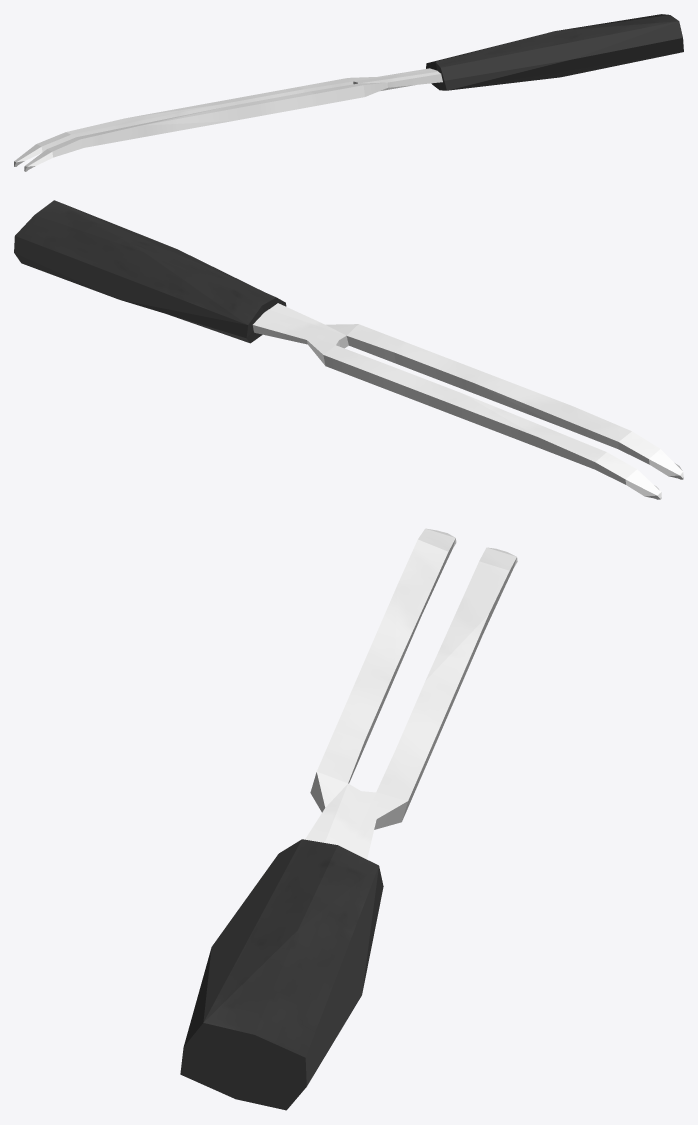
File: CarvingFork.fbx
3 views of the same model, one above another, from view 1: azimuth 30°, elevation 25°; view 2: azimuth 150°, elevation 25°; view 3: azimuth 270°, elevation 25° (orthographic). The views are drawn at different scales.
Parts seen in each view (by area): view 1: CarvingForkSp; view 2: CarvingForkSp; view 3: CarvingForkSp.
Part boxes in pixels (x1=…): CarvingForkSp: x1=14, y1=14, x2=683, y2=171; CarvingForkSp: x1=14, y1=200, x2=683, y2=499; CarvingForkSp: x1=180, y1=528, x2=517, y2=1110.
Bounding box in the file's own units: 71.09 × 6.35 × 17.21.
